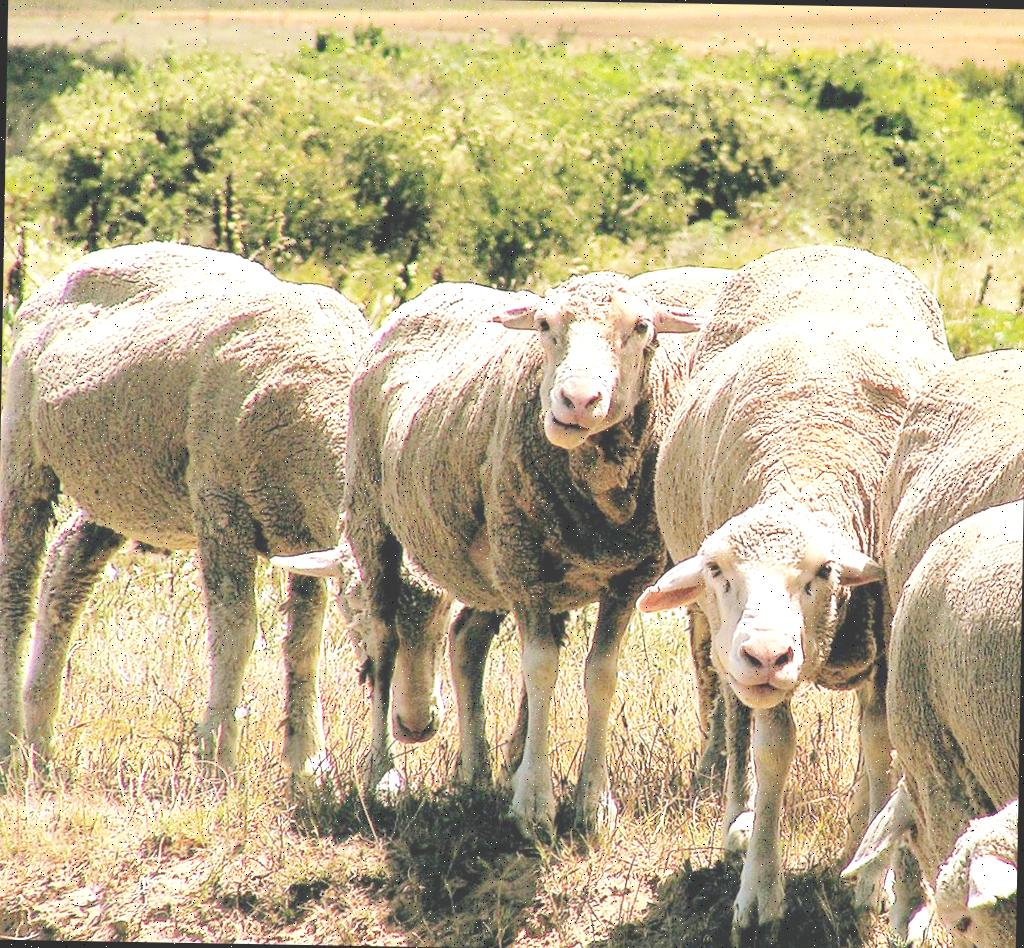Sheep: (0, 236, 460, 815), (628, 241, 957, 948), (332, 268, 706, 858), (622, 265, 884, 686), (844, 349, 1024, 900), (884, 506, 1022, 948)
